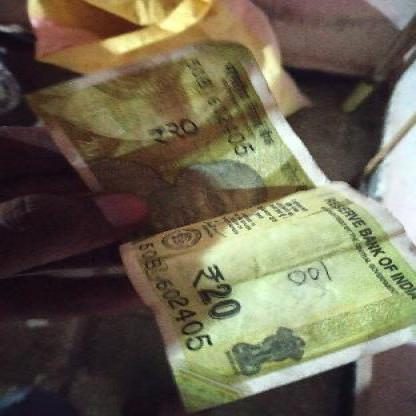New20Front: (43, 54, 377, 361)
